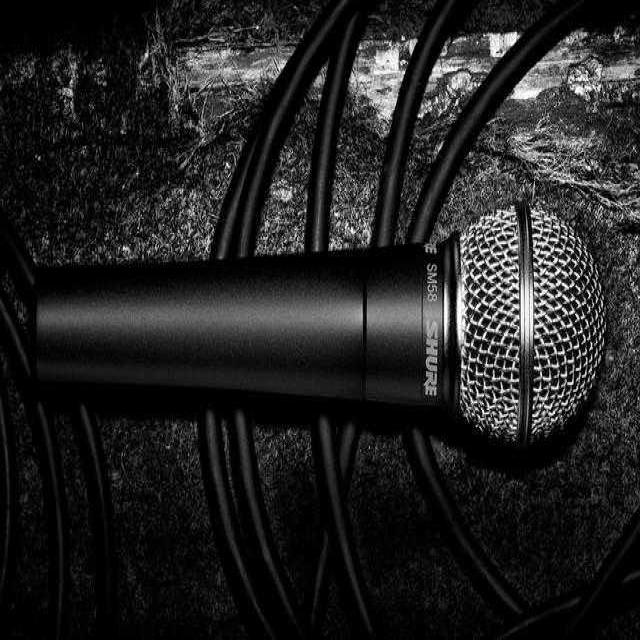microphone: (23, 205, 605, 450)
